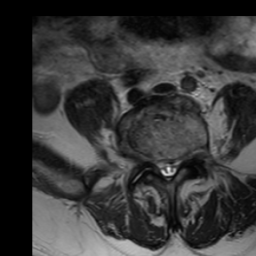CCS_stenosis: (164, 148, 172, 187)
LFS_stenosis: (180, 143, 189, 170)
LLS_normal: (172, 149, 179, 179)
RFS_stenosis: (146, 147, 156, 173)
RLS_stenosis: (155, 150, 164, 178)
